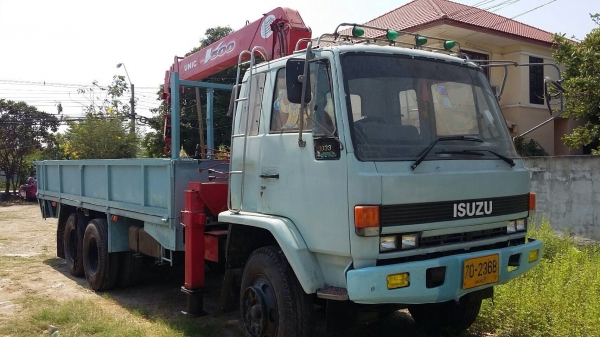truck: (33, 34, 543, 313)
